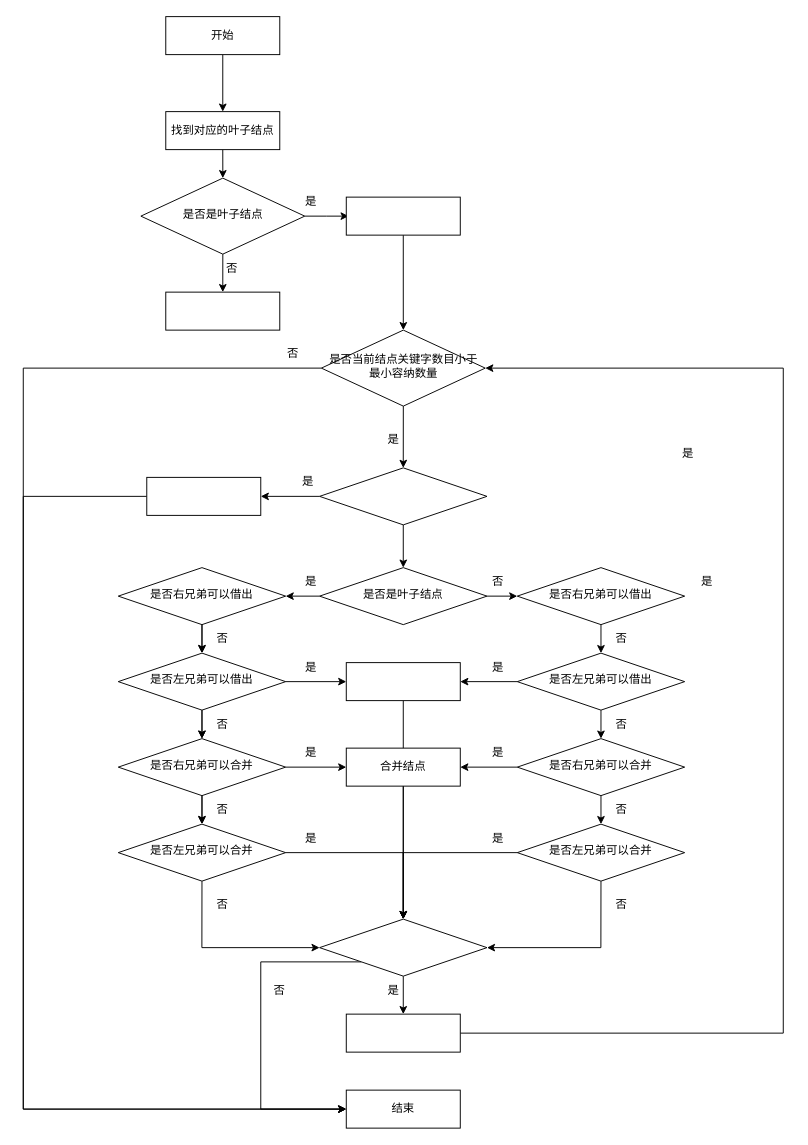
Image size: 808x1145. Some labels were removed from this diagram. The shapes that lost their labels are listed below. From the top down, each one's centre as x and y in pixels, then its label:
At (x=402, y=215): "删除叶子结点关键字".
At (x=222, y=310): "删除内部结点关键字".
At (x=203, y=495): "根结点变为左子节点".
At (x=403, y=496): "是否是根结点".
At (x=402, y=681): "借出结点".
At (x=403, y=947): "是否有父结点".
At (x=402, y=1032): "父结点变为当前结点".
